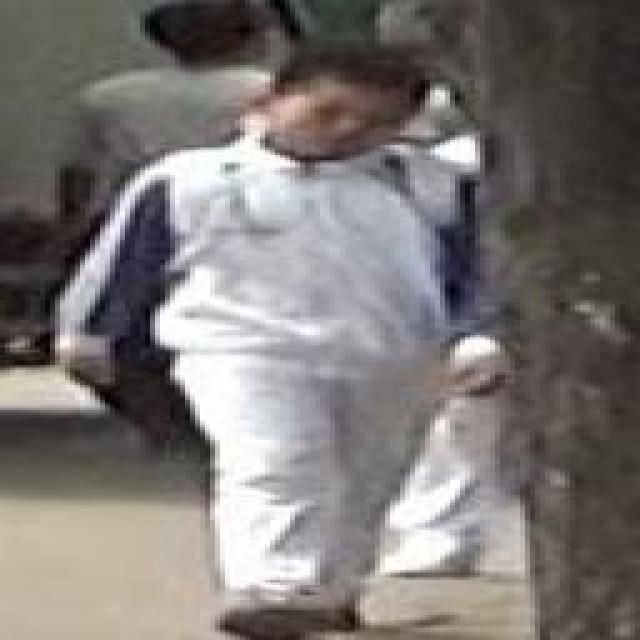child: (88, 57, 498, 640)
